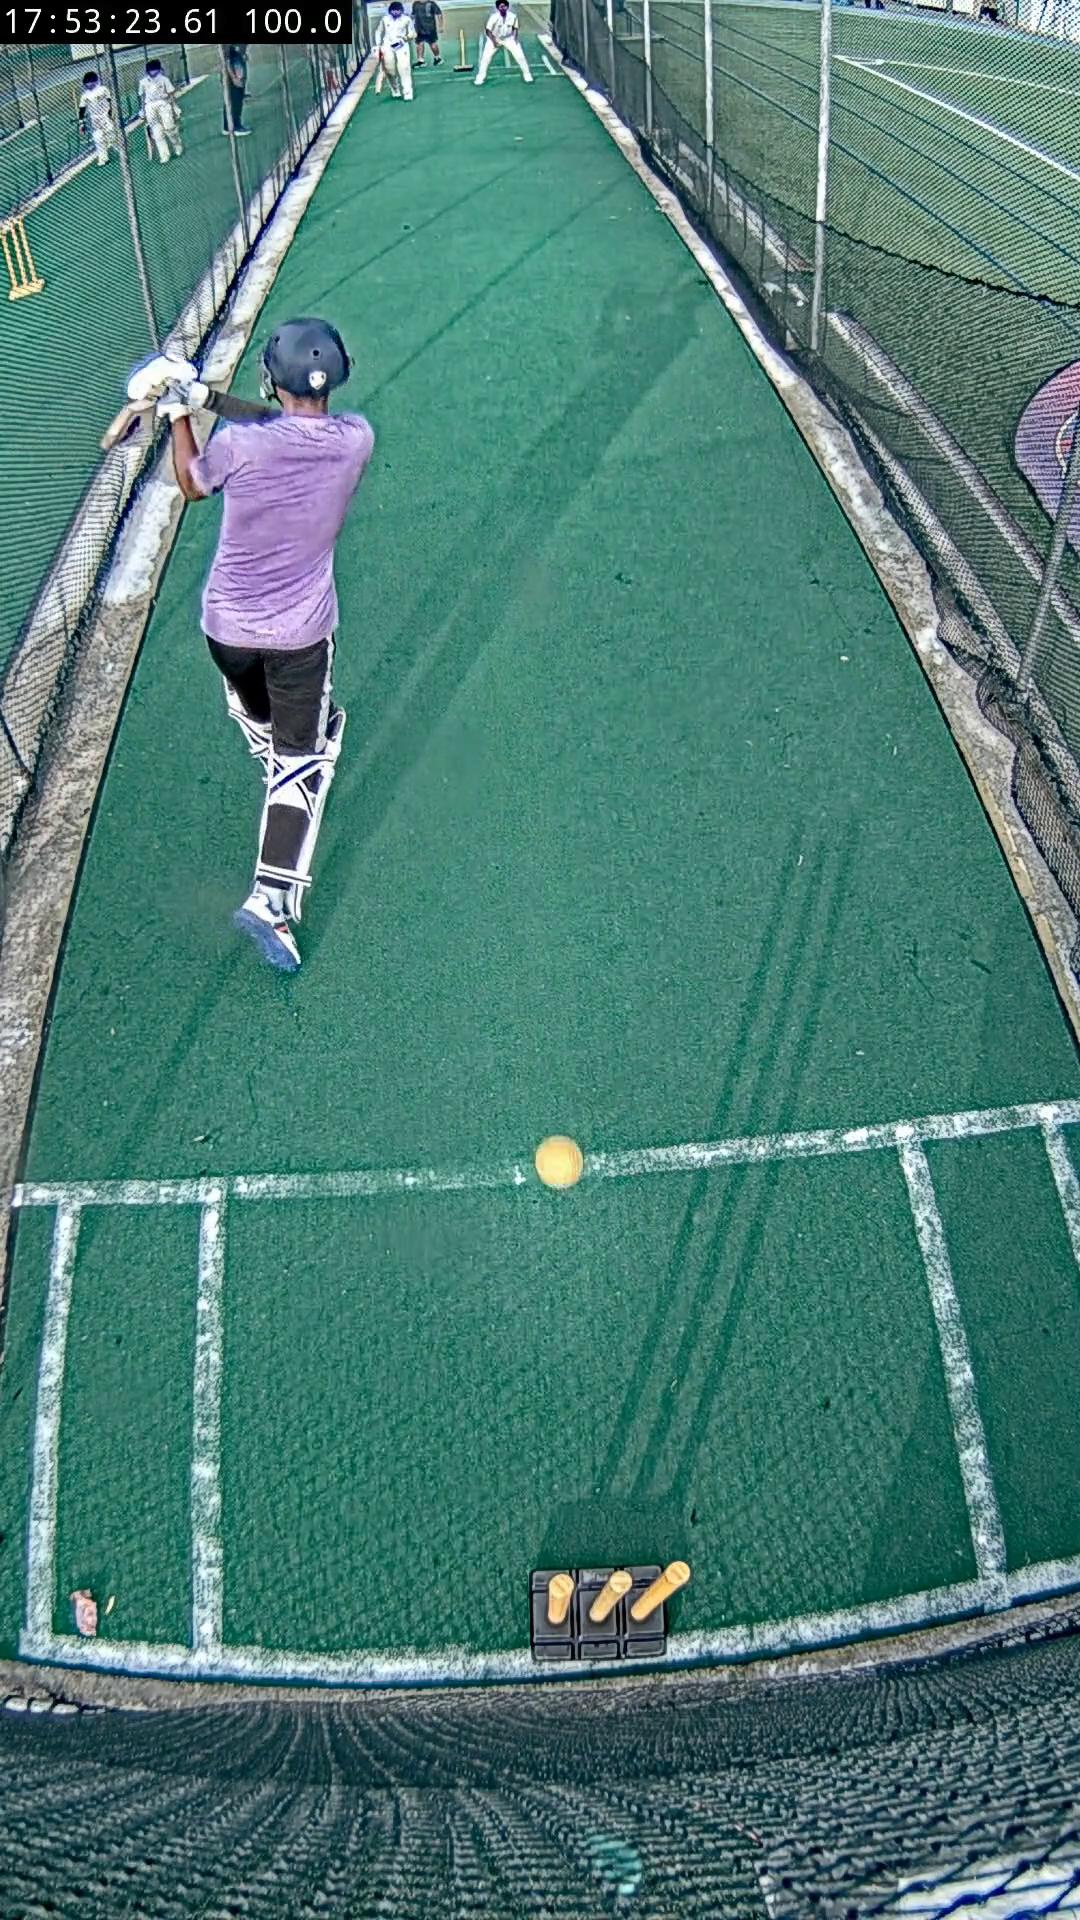ball: (537, 1137, 585, 1188)
bat: (102, 397, 154, 448)
gloves: (128, 352, 210, 417)
helmet: (262, 319, 352, 397)
stumps: (529, 1560, 690, 1665)
